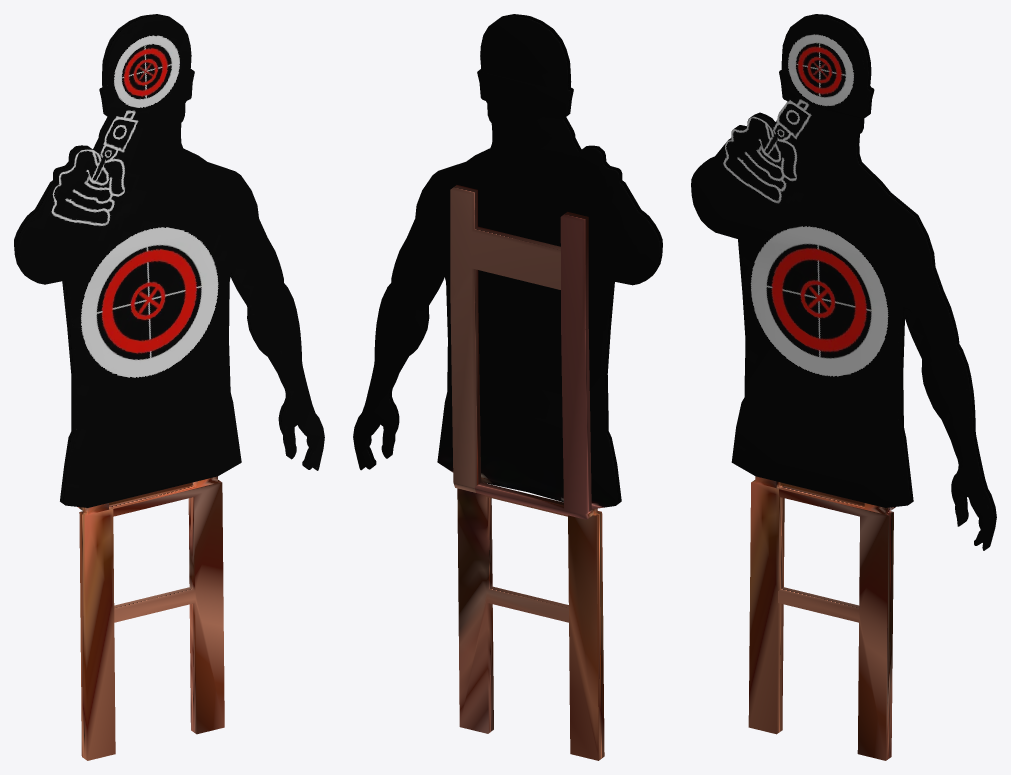
File: 1785576165961_shooting_range_target.glb
The picture shows the model from 3 angles, left to right: view 1: azimuth 30°, elevation 25°; view 2: azimuth 150°, elevation 25°; view 3: azimuth 330°, elevation 25°; orthographic projection.
Parts seen in each view (by area): view 1: Target_Material.004_0; view 2: Target_Material.004_0; view 3: Target_Material.004_0.
Part boxes in pixels (x1,y1,x2,y2): Target_Material.004_0: (14,14,324,760); Target_Material.004_0: (353,14,662,760); Target_Material.004_0: (691,14,996,760).
Bounding box in the file's own units: 2.8 × 6.35 × 0.3008.
Materials: 1 (1 with a texture image).
